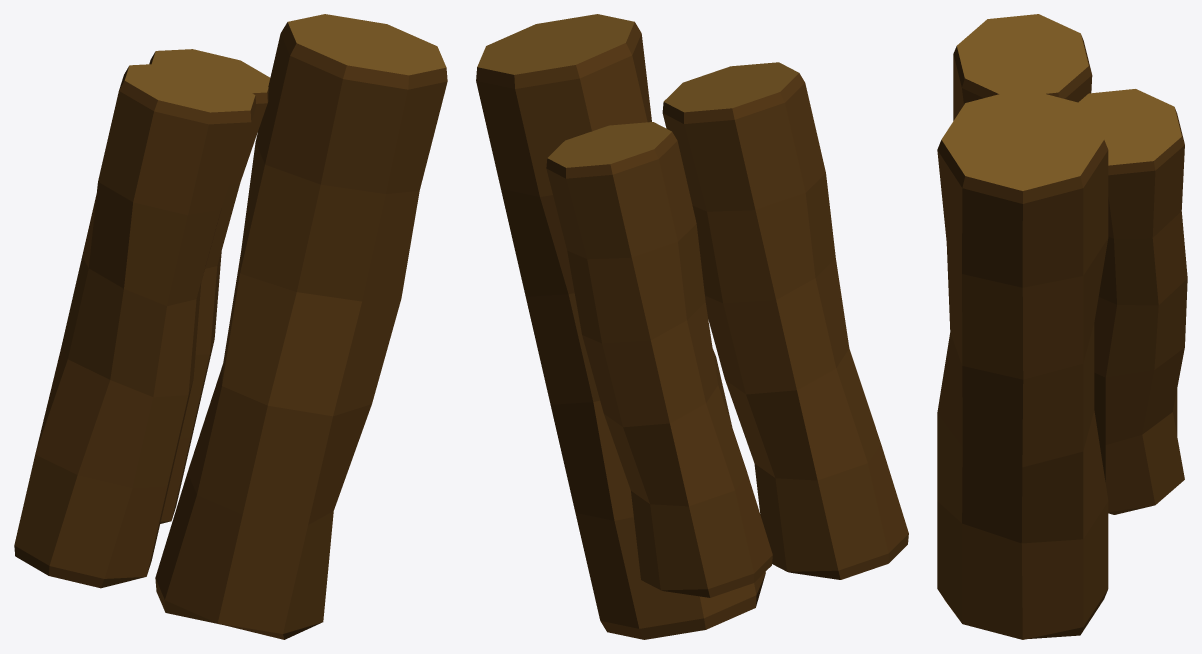
The model's file is WoodLogs.fbx.
3 views of the same model, side by side, from view 1: azimuth 30°, elevation 25°; view 2: azimuth 150°, elevation 25°; view 3: azimuth 270°, elevation 25° (orthographic). The views are drawn at different scales.
Parts seen in each view (by area): view 1: WoodLogs; view 2: WoodLogs; view 3: WoodLogs.
Part boxes in pixels (bbox=[...]): WoodLogs: bbox=[14, 14, 447, 639]; WoodLogs: bbox=[476, 14, 908, 639]; WoodLogs: bbox=[937, 14, 1187, 639].
Bounding box in the file's own units: 0.5942 × 1.45 × 1.1.
